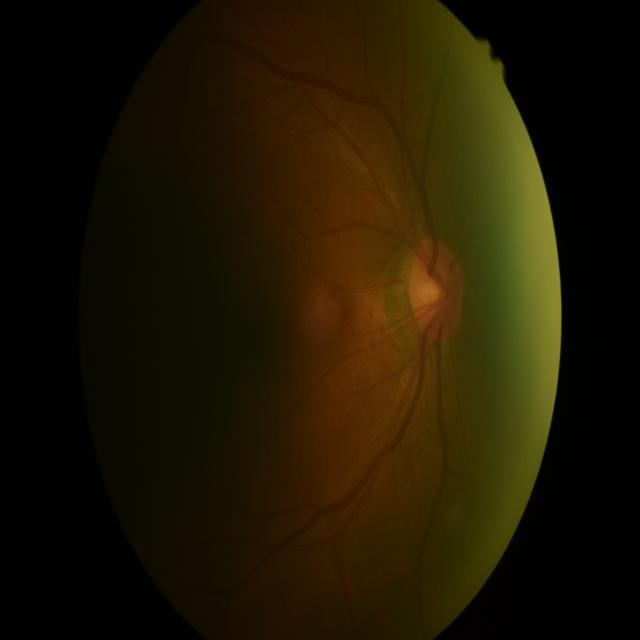cup: (423, 268, 448, 320)
disk: (407, 240, 465, 340)
